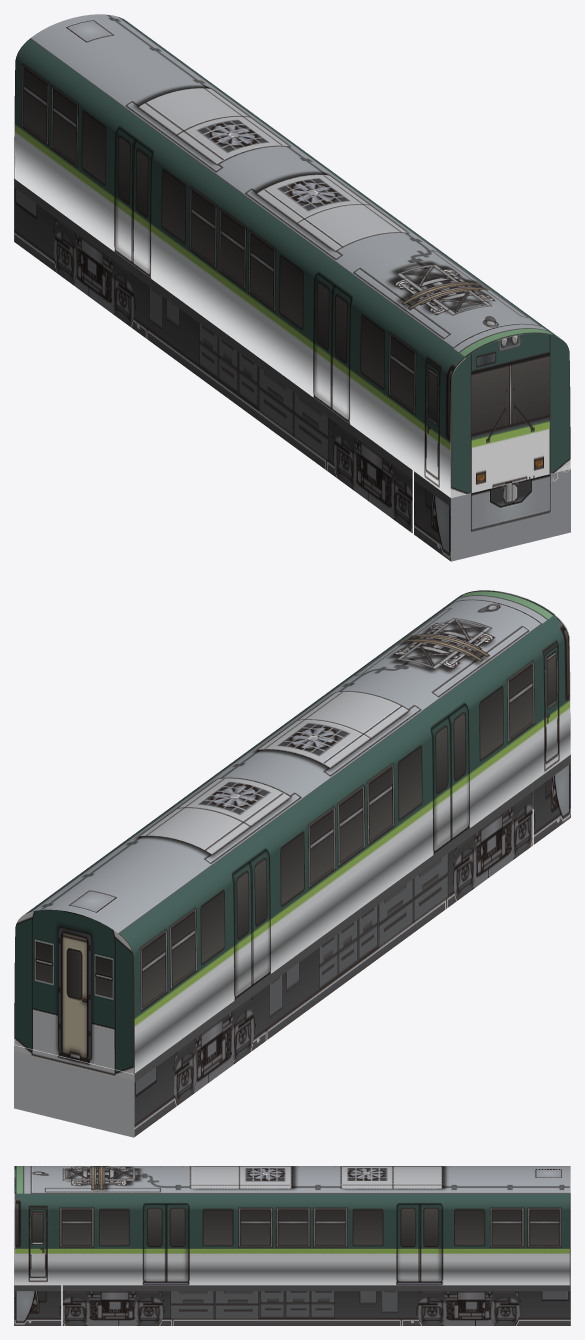
File: car1.glb
The picture shows the model from 3 angles, top to bottom: view 1: azimuth 30°, elevation 25°; view 2: azimuth 150°, elevation 25°; view 3: azimuth 270°, elevation 25°; orthographic projection. The views are drawn at different scales.
Visible parts, largest first — view 1: keihan-700-car1; view 2: keihan-700-car1; view 3: keihan-700-car1.
Boxes of the visible parts, bbox=[...] form: keihan-700-car1: bbox=[14, 14, 570, 561]; keihan-700-car1: bbox=[14, 590, 570, 1137]; keihan-700-car1: bbox=[14, 1166, 570, 1325].
Bounding box in the file's own units: 2.38 × 3.98 × 15.03.
Materials: 9 (8 with a texture image).
